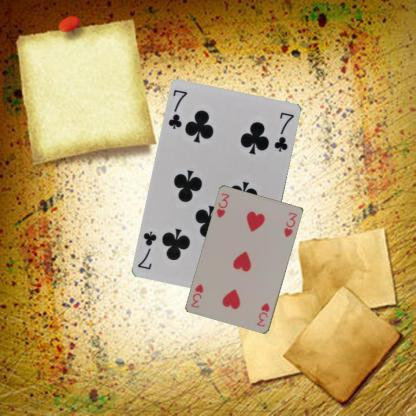3h: (214, 191, 232, 220), (254, 300, 271, 328)
7c: (166, 87, 189, 131)
